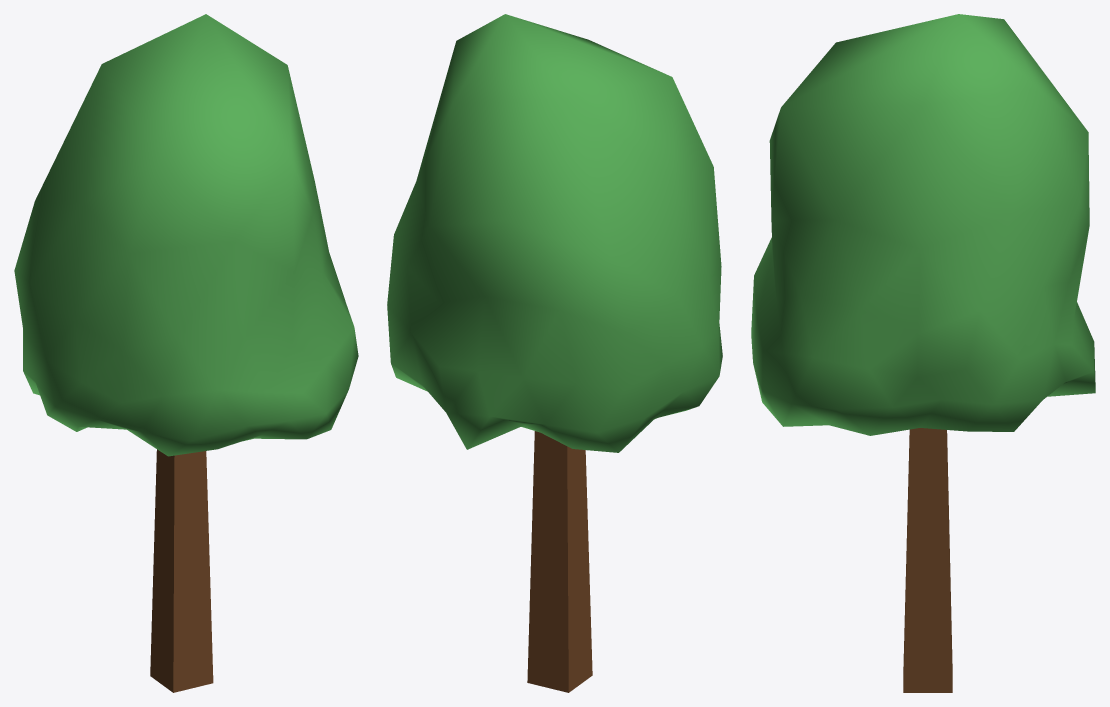
Rendered from tree.001.glb.
The picture shows the model from 3 angles, left to right: view 1: azimuth 30°, elevation 25°; view 2: azimuth 150°, elevation 25°; view 3: azimuth 270°, elevation 25°; orthographic projection. The views are drawn at different scales.
Visible parts, largest first — view 1: tree.001; view 2: tree.001; view 3: tree.001.
Boxes of the visible parts, left/top/right/bottom form: tree.001: left=14, top=14, right=358, bottom=692; tree.001: left=387, top=14, right=722, bottom=692; tree.001: left=751, top=14, right=1095, bottom=692.
Bounding box in the file's own units: 5.66 × 12.32 × 5.59.
